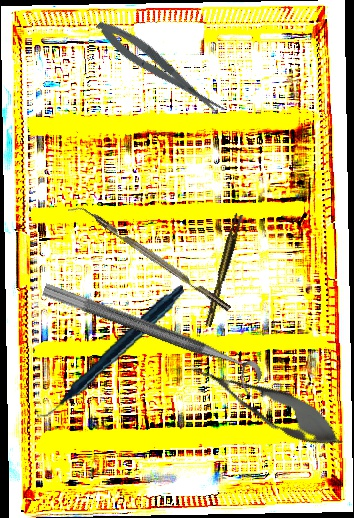Chopper: (67, 198, 232, 319)
Fixation Ring: (34, 281, 266, 399)
Handpiece: (23, 285, 197, 418)
Micro Scissor: (179, 347, 353, 461), (91, 12, 229, 125)
Tissue Forceps: (199, 212, 247, 328)
